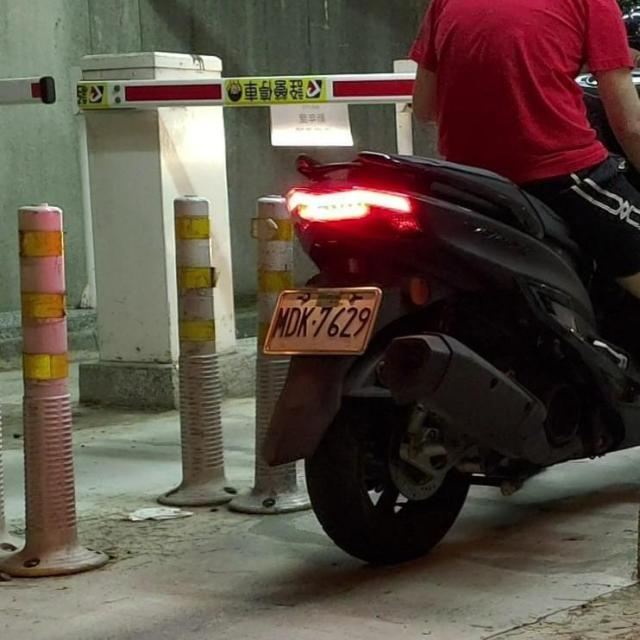W: (263, 278, 386, 361)
